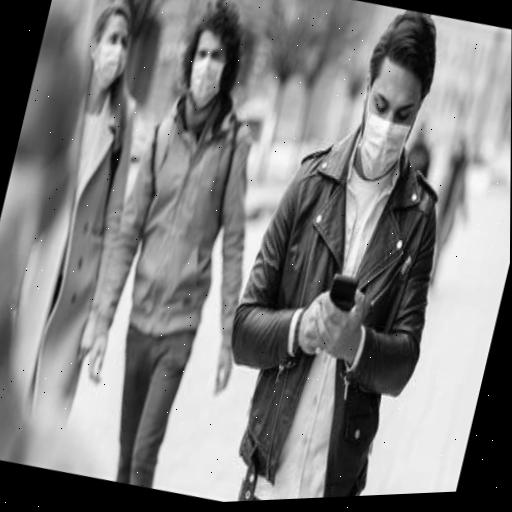mask: (0, 0, 106, 368), (342, 20, 439, 190), (175, 3, 242, 117), (83, 0, 140, 93)
